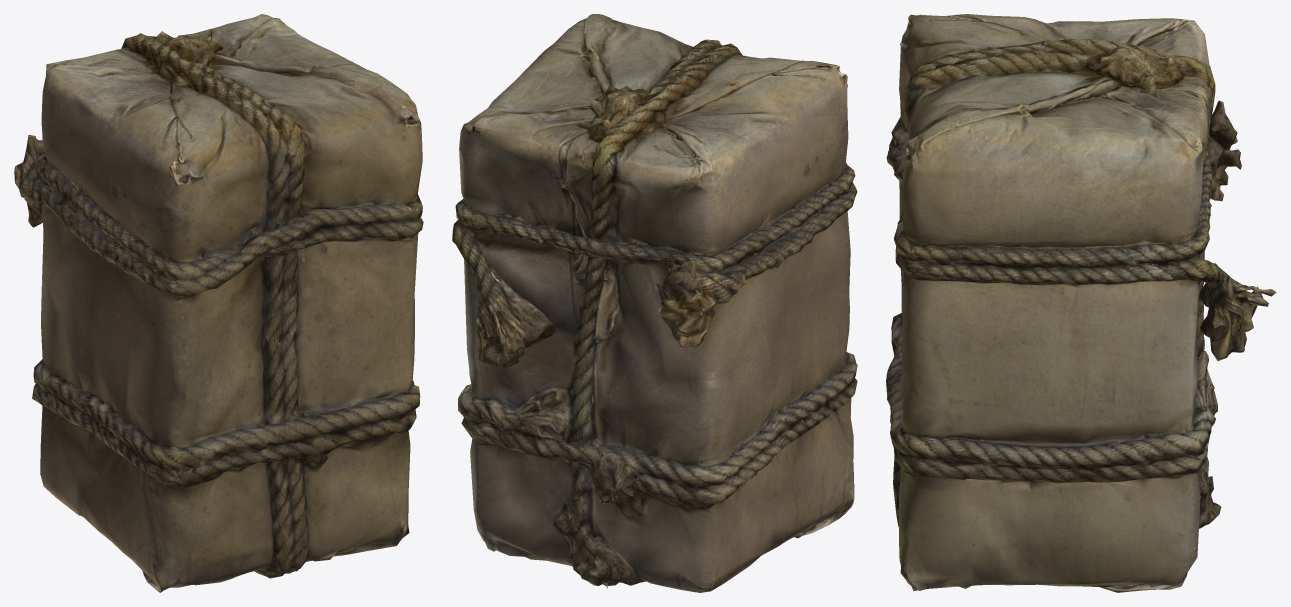
Rendered from MOD_Canvas_Crate_B.fbx.
3 renders of one model, left to right at view 1: azimuth 30°, elevation 25°; view 2: azimuth 150°, elevation 25°; view 3: azimuth 270°, elevation 25°, orthographic. The views are drawn at different scales.
Parts seen in each view (by area): view 1: MOD_Canvas_Crate_B; view 2: MOD_Canvas_Crate_B; view 3: MOD_Canvas_Crate_B.
Part boxes in pixels (x1,y1,x2,y2): MOD_Canvas_Crate_B: (14,14,423,592); MOD_Canvas_Crate_B: (452,14,857,592); MOD_Canvas_Crate_B: (886,14,1276,592).
Size of the model in its own units: 53.96 by 86.82 by 61.61.
